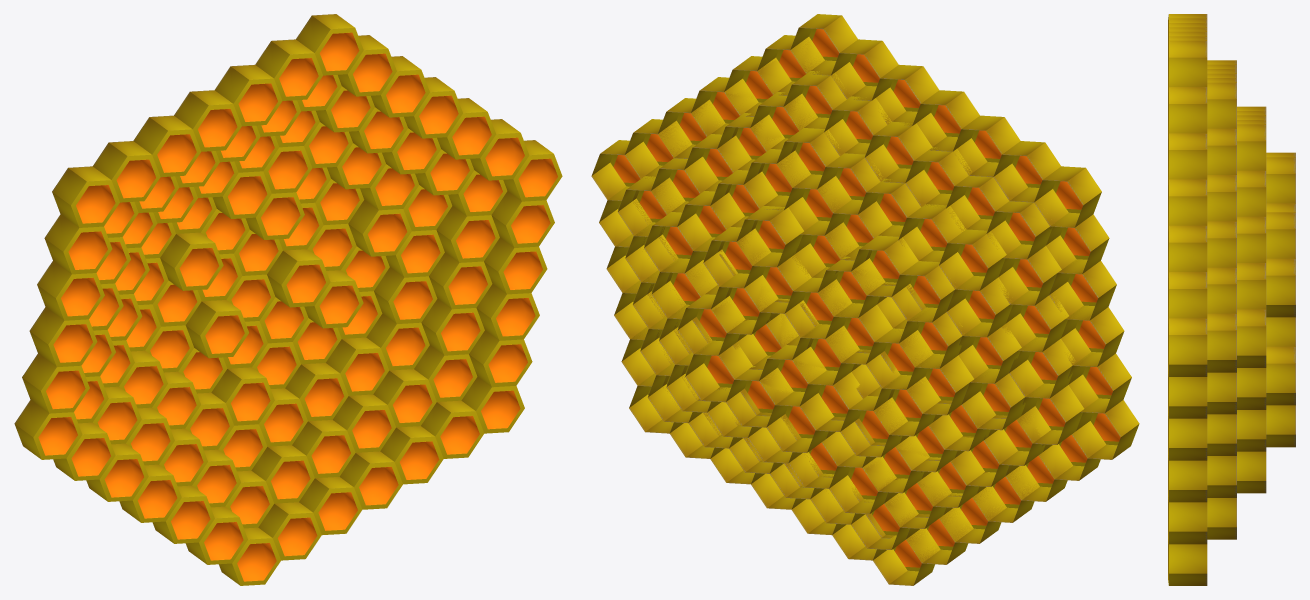
3 views of the same model, side by side, from view 1: azimuth 30°, elevation 25°; view 2: azimuth 150°, elevation 25°; view 3: azimuth 270°, elevation 25° (orthographic). The views are drawn at different scales.
Visible parts, largest first — view 1: comb.066, comb.147, comb.146, comb.143, comb.137, comb.129, comb.130, comb.021, comb.033, comb.014, comb.063, comb.064 (+102 smaller); view 2: comb.130, comb.146, comb.061, comb.044, comb.129, comb.128, comb.143, comb.063, comb.065, comb.066, comb.042, comb.039 (+102 smaller); view 3: comb.144, comb.078, comb.123, comb.124, comb.140, comb.145, comb.147, comb.019, comb.038, comb.077, comb.036, comb.080 (+31 smaller).
Part boxes in pixels (left/top/right/bottom): comb.066: left=52, top=166, right=119, bottom=227; comb.147: left=296, top=14, right=363, bottom=75; comb.146: left=255, top=39, right=322, bottom=100; comb.143: left=215, top=64, right=282, bottom=126; comb.137: left=174, top=90, right=241, bottom=151; comb.129: left=133, top=115, right=200, bottom=177; comb.130: left=93, top=141, right=160, bottom=202; comb.021: left=267, top=249, right=330, bottom=307; comb.033: left=160, top=232, right=223, bottom=290; comb.014: left=185, top=300, right=248, bottom=358; comb.063: left=29, top=307, right=97, bottom=366; comb.064: left=37, top=261, right=104, bottom=320; comb.130: left=993, top=141, right=1060, bottom=202; comb.146: left=831, top=39, right=898, bottom=100; comb.061: left=1071, top=398, right=1139, bottom=459; comb.044: left=939, top=229, right=1006, bottom=290; comb.129: left=953, top=115, right=1020, bottom=177; comb.128: left=864, top=121, right=932, bottom=183; comb.143: left=871, top=64, right=938, bottom=126; comb.063: left=1061, top=305, right=1124, bottom=366; comb.065: left=1046, top=212, right=1109, bottom=273; comb.066: left=1034, top=166, right=1101, bottom=227; comb.042: left=851, top=235, right=918, bottom=297; comb.039: left=736, top=206, right=803, bottom=266; comb.144: left=1168, top=318, right=1207, bottom=376; comb.078: left=1168, top=272, right=1207, bottom=323; comb.123: left=1168, top=225, right=1207, bottom=277; comb.124: left=1168, top=179, right=1207, bottom=230; comb.140: left=1168, top=133, right=1207, bottom=184; comb.145: left=1168, top=87, right=1207, bottom=138; comb.147: left=1168, top=40, right=1207, bottom=91; comb.019: left=1266, top=346, right=1295, bottom=405; comb.038: left=1266, top=258, right=1295, bottom=317; comb.077: left=1207, top=313, right=1236, bottom=372; comb.036: left=1237, top=309, right=1266, bottom=367; comb.080: left=1168, top=497, right=1207, bottom=544.
Size of the model in its own units: 42.4 by 41.28 by 8.67.
Materials: 1 (1 with a texture image).
